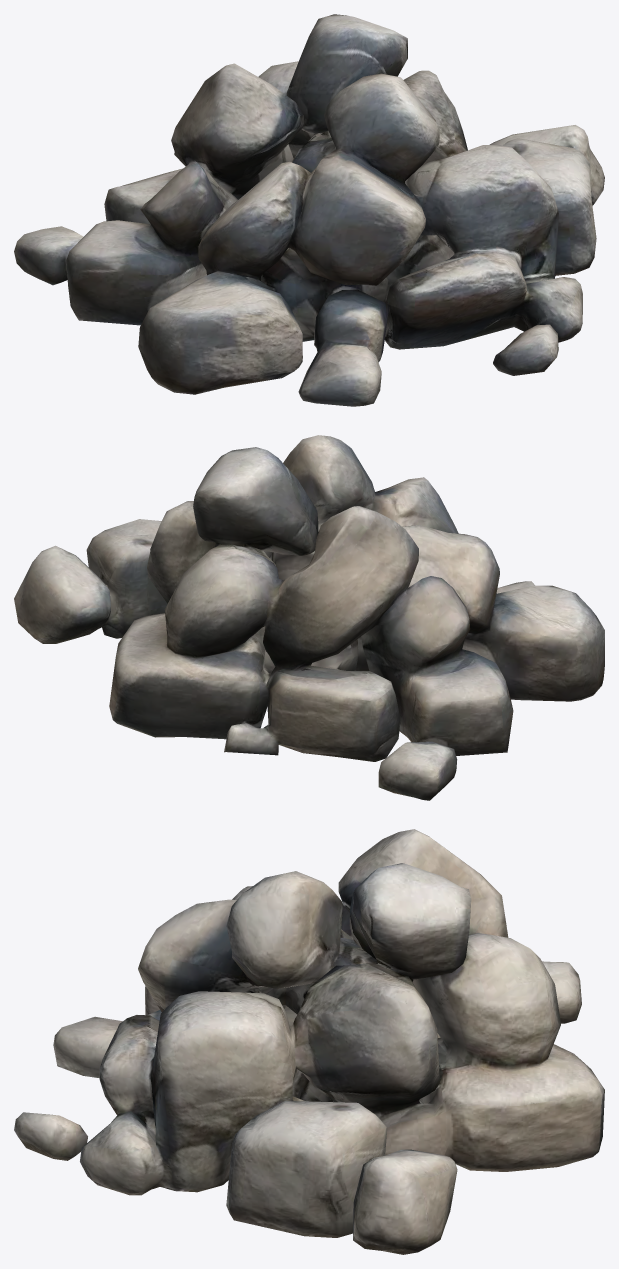
Rendered from rocks.glb.
3 views of the same model, one above another, from view 1: azimuth 30°, elevation 25°; view 2: azimuth 150°, elevation 25°; view 3: azimuth 270°, elevation 25° (orthographic). The views are drawn at different scales.
Bounding box in the file's own units: 1.95 × 0.8689 × 1.69.
1 material, 1 textured.
